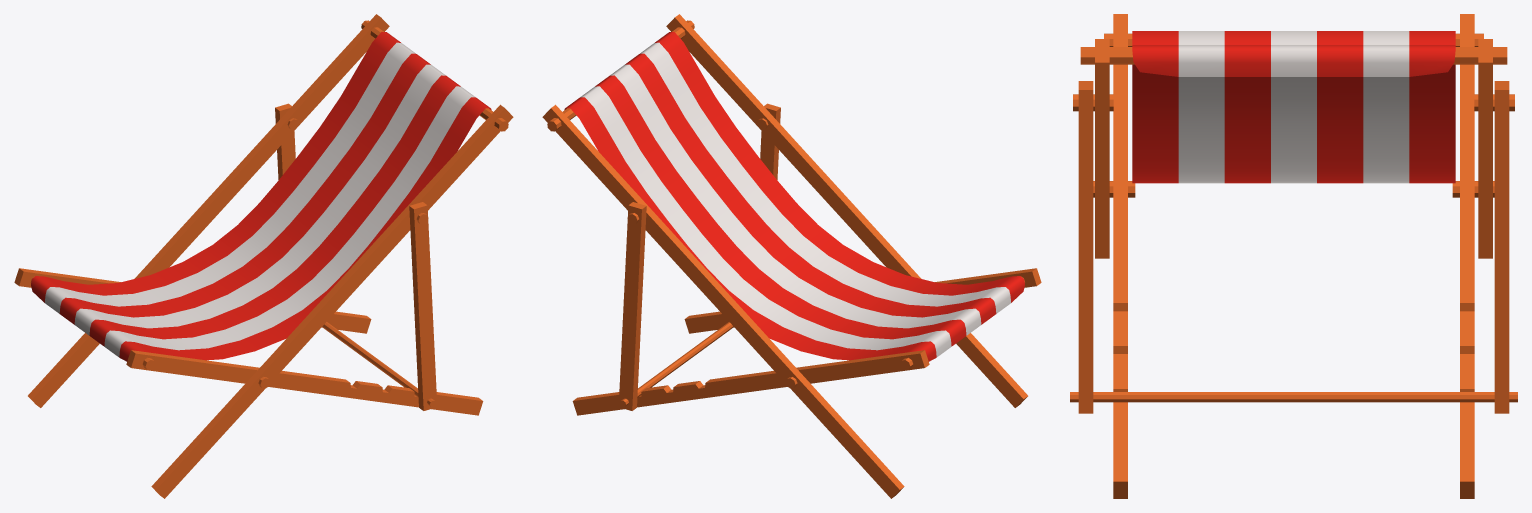
Rendered from chair_A.fbx.
3 renders of one model, left to right at view 1: azimuth 30°, elevation 25°; view 2: azimuth 150°, elevation 25°; view 3: azimuth 270°, elevation 25°, orthographic. The views are drawn at different scales.
Visible parts, largest first — view 1: chair_A; view 2: chair_A; view 3: chair_A.
Boxes of the visible parts, left/top/right/bottom form: chair_A: left=14, top=14, right=513, bottom=498; chair_A: left=542, top=14, right=1041, bottom=498; chair_A: left=1070, top=14, right=1517, bottom=498.
Size of the model in its own units: 146 by 114 by 97.21.
